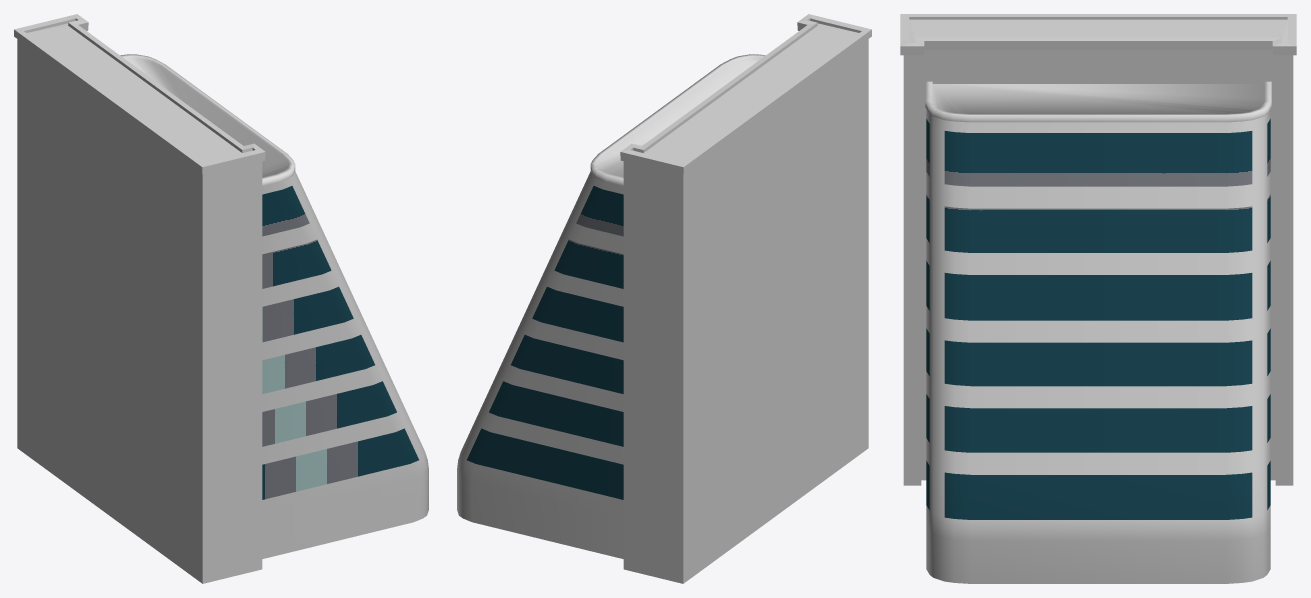
Rendered from Big_building2.fbx.
The picture shows the model from 3 angles, left to right: view 1: azimuth 30°, elevation 25°; view 2: azimuth 150°, elevation 25°; view 3: azimuth 270°, elevation 25°; orthographic projection. The views are drawn at different scales.
Parts seen in each view (by area): view 1: BigBuilding_2; view 2: BigBuilding_2; view 3: BigBuilding_2.
Boxes of the visible parts, x1,y1,x2,y2 form: BigBuilding_2: (14,14,428,583); BigBuilding_2: (457,14,871,583); BigBuilding_2: (900,14,1296,583).
Size of the model in its own units: 2062 by 3275 by 2667.
